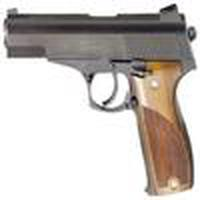gun: (2, 9, 200, 199)
